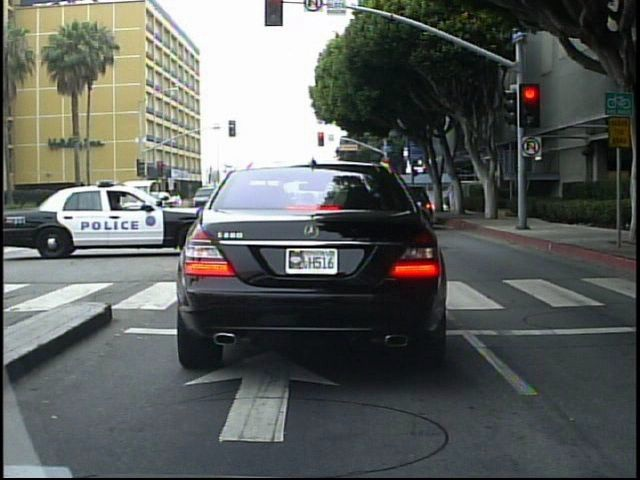person: (444, 180, 458, 215)
